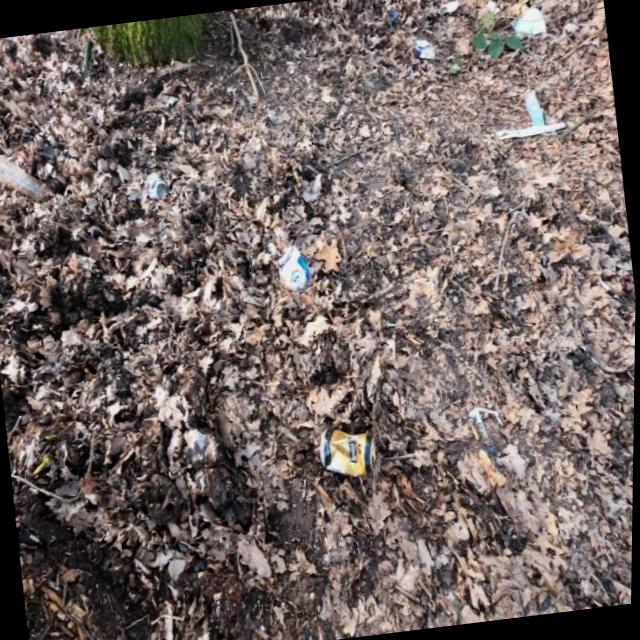Can-Metal: (316, 419, 380, 482), (274, 240, 312, 296), (144, 168, 169, 199), (412, 36, 436, 60)
Mask: (510, 4, 545, 36), (522, 86, 544, 126), (434, 0, 458, 14)
Paper: (184, 424, 211, 461)
